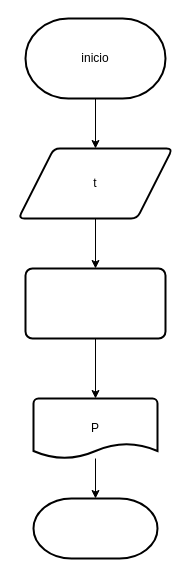
This 190x576 diagram has some shape labels left out. Here are the shapes that lost their labels. From the top down, the box of each, then its label:
(24, 267, 166, 339): P=t/0.0254
(32, 497, 158, 559): fin
